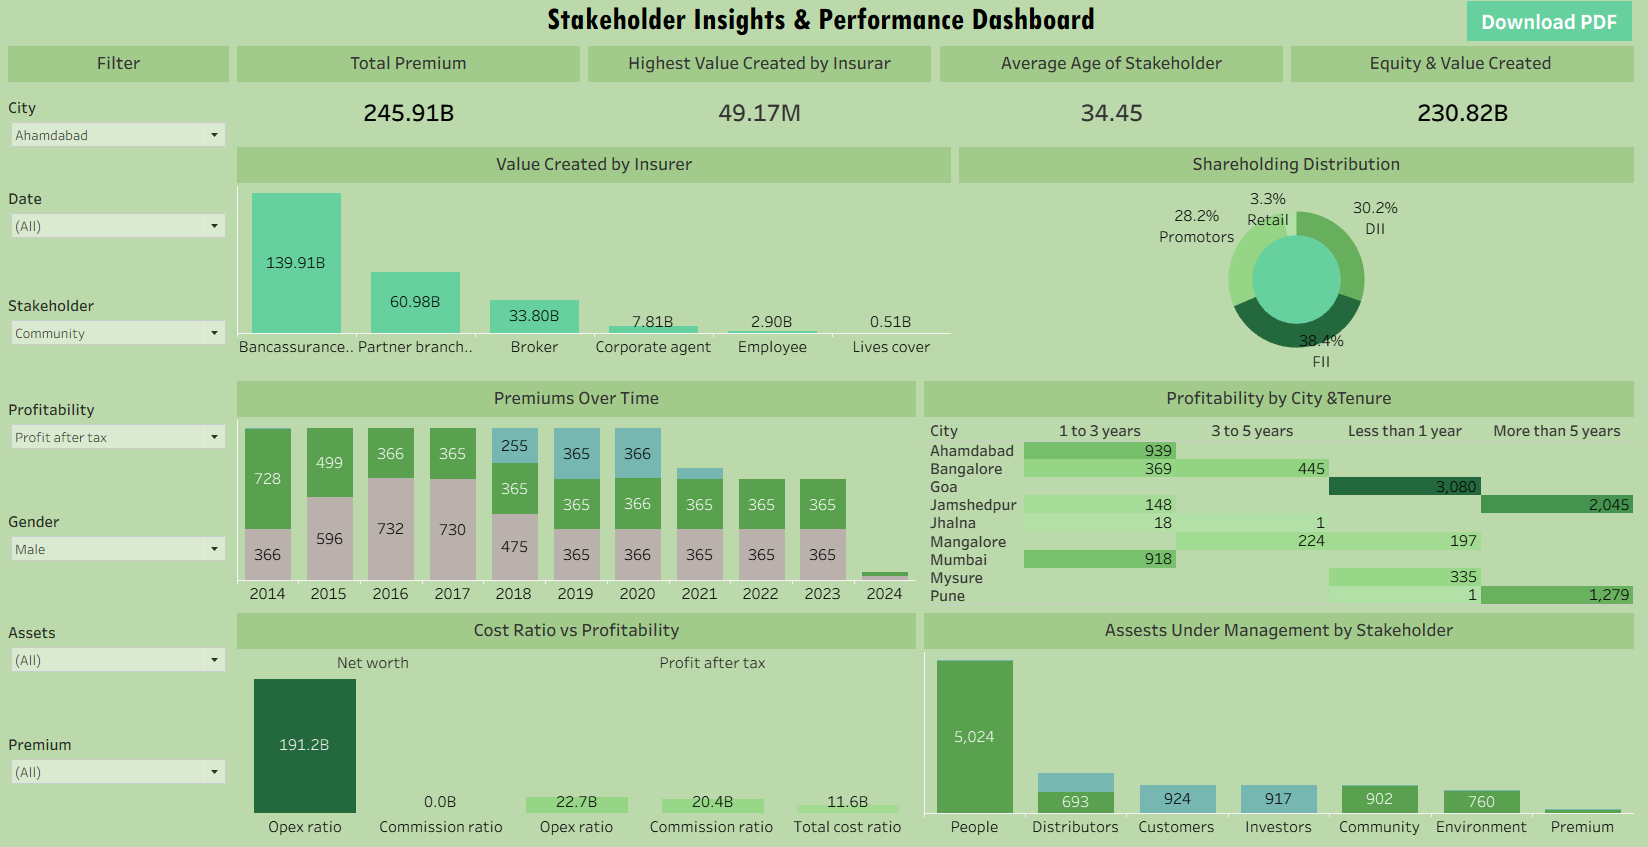

What the dashboard file says about the page in this screenshot:
{"tool":"tableau","page":{"name":"Dashboard 1","canvas":[1000,1000],"units":"permille","ordinal":0},"visuals":[{"type":"title","box":[4.9,9.6,990.2,52.7]},{"type":"dashboard-object","box":[891.5,13.2,99.9,46.7]},{"type":"worksheet","title":"Filter","mark":"Automatic","box":[4.9,62.3,138.9,61.1]},{"type":"worksheet","title":"Total Premium","mark":"Automatic","box":[143.8,62.3,212.8,116.9]},{"type":"worksheet","title":"Highest Value Created by Insurar","mark":"Automatic","box":[356.6,62.3,212.9,116.9]},{"type":"worksheet","title":"Average Age of Stakeholder","mark":"Automatic","box":[569.4,62.3,212.8,116.9]},{"type":"worksheet","title":"Equity & Value Created ","mark":"Automatic","box":[782.2,62.3,212.9,116.9]},{"type":"filter","title":"Filter","param":"[federated.0wfjicd1dxqw4i12zxmom0czyja4].[none:City:nk]","box":[4.9,123.4,138.9,109]},{"type":"worksheet","title":"Value Created by Insurer","mark":"Automatic","rows":["Value Created"],"cols":["Insurer"],"box":[143.8,179.2,437.5,271.7]},{"type":"worksheet","title":"Shareholding Distribution","mark":"Pie","rows":["Calculation_1803816296525824","Calculation_1803816296525824"],"box":[581.3,179.2,413.8,271.7]},{"type":"filter","title":"Filter","param":"[federated.0wfjicd1dxqw4i12zxmom0czyja4].[yr:Date (Finance Sheet):ok]","box":[4.9,232.3,138.9,126.7]},{"type":"filter","title":"Filter","param":"[federated.0wfjicd1dxqw4i12zxmom0czyja4].[none:Stakeholder:nk]","box":[4.9,359,138.9,124.5]},{"type":"worksheet","title":"Premiums Over Time","mark":"Bar","rows":["Value Created"],"cols":["Date (Finance Sheet)"],"box":[143.8,450.9,416.5,268.8]},{"type":"worksheet","title":"Profitability by City &Tenure","mark":"Square","rows":["City"],"cols":["Policy tenuer"],"box":[560.3,450.9,434.8,268.8]},{"type":"filter","title":"Filter","param":"[federated.0wfjicd1dxqw4i12zxmom0czyja4].[none:Profitability:nk]","box":[4.9,483.6,138.9,126.7]},{"type":"filter","title":"Filter","param":"[federated.0wfjicd1dxqw4i12zxmom0czyja4].[none:Gender:nk]","box":[4.9,610.3,138.9,126.7]},{"type":"worksheet","title":"Cost Ratio vs Profitability","mark":"Automatic","rows":["Value Created"],"cols":["Profitability","Cost ratio"],"box":[143.8,719.7,416.5,270.7]},{"type":"worksheet","title":"Assests Under Management by Stakeholder","mark":"Automatic","rows":["Value Created"],"cols":["Stakeholder"],"box":[560.3,719.7,434.8,270.7]},{"type":"filter","title":"Filter","param":"[federated.0wfjicd1dxqw4i12zxmom0czyja4].[none:Assets under management:nk]","box":[4.9,737,138.9,126.7]},{"type":"filter","title":"Filter","param":"[federated.0wfjicd1dxqw4i12zxmom0czyja4].[none:Premium 1:nk]","box":[4.9,863.7,138.9,126.7]}]}

Visuals, with their boxes on the dashboard's canvas, which has no fixed pixel size, in thousandths of its width and height (x1, y1, x2, y2). These are canvas units, not pixel positions in the 1648x847 screenshot, which may show the page scaled, cropped or inside an application window:
title: box=[5, 10, 995, 62]
dashboard-object: box=[892, 13, 991, 60]
"Filter" worksheet: box=[5, 62, 144, 123]
"Total Premium" worksheet: box=[144, 62, 357, 179]
"Highest Value Created by Insurar" worksheet: box=[357, 62, 570, 179]
"Average Age of Stakeholder" worksheet: box=[569, 62, 782, 179]
"Equity & Value Created " worksheet: box=[782, 62, 995, 179]
"Filter" filter: box=[5, 123, 144, 232]
"Value Created by Insurer" worksheet: box=[144, 179, 581, 451]
"Shareholding Distribution" worksheet (Pie marks): box=[581, 179, 995, 451]
"Filter" filter: box=[5, 232, 144, 359]
"Filter" filter: box=[5, 359, 144, 484]
"Premiums Over Time" worksheet (Bar marks): box=[144, 451, 560, 720]
"Profitability by City &Tenure" worksheet (Square marks): box=[560, 451, 995, 720]
"Filter" filter: box=[5, 484, 144, 610]
"Filter" filter: box=[5, 610, 144, 737]
"Cost Ratio vs Profitability" worksheet: box=[144, 720, 560, 990]
"Assests Under Management by Stakeholder" worksheet: box=[560, 720, 995, 990]
"Filter" filter: box=[5, 737, 144, 864]
"Filter" filter: box=[5, 864, 144, 990]
